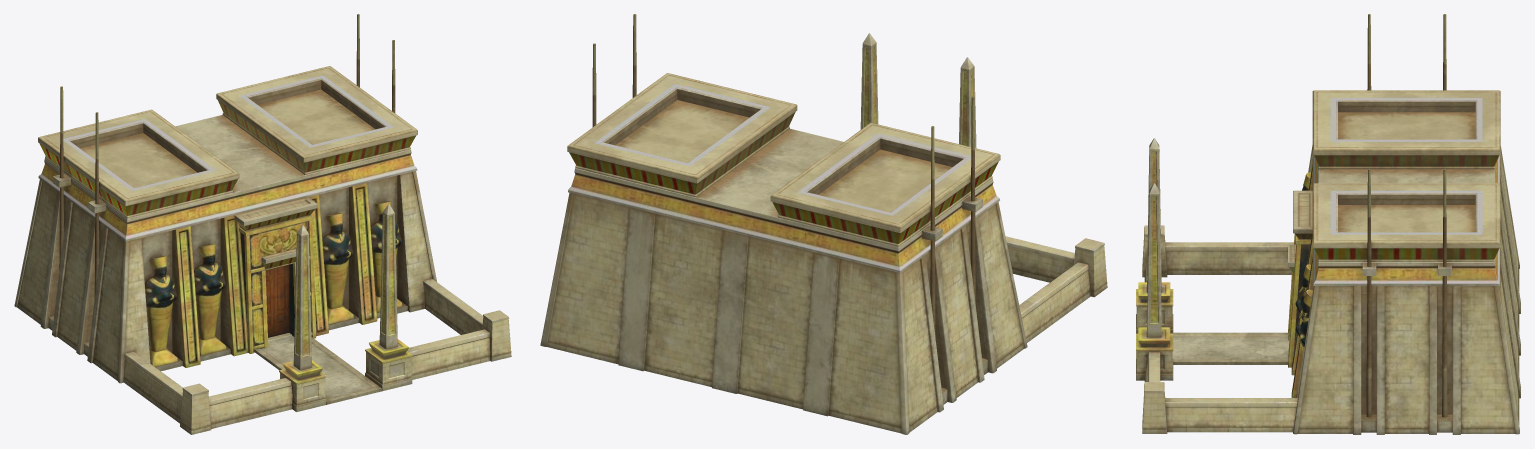
The model's file is 86-wonder-set.glb.
The picture shows the model from 3 angles, left to right: view 1: azimuth 30°, elevation 25°; view 2: azimuth 150°, elevation 25°; view 3: azimuth 270°, elevation 25°; orthographic projection. The views are drawn at different scales.
Bounding box in the file's own units: 16.06 × 11.44 × 15.44.
2 materials, 2 textured.
